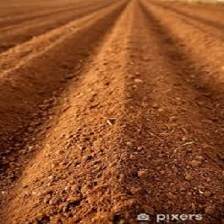clay_soil: (13, 26, 214, 204)
